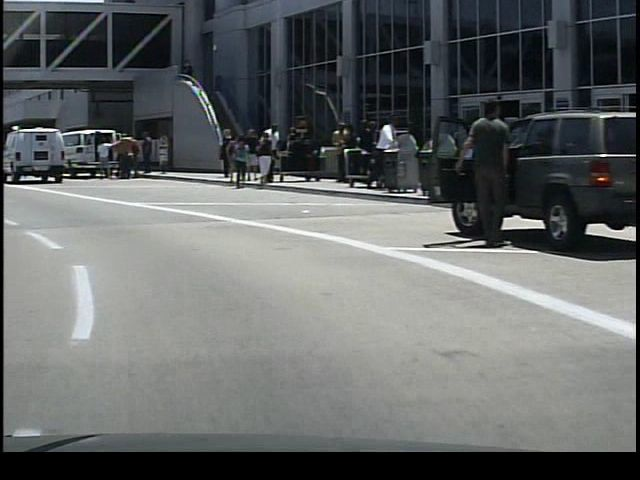person: (444, 79, 517, 253), (361, 111, 394, 173), (255, 122, 280, 184), (250, 132, 273, 184), (112, 131, 133, 183), (136, 130, 158, 177), (93, 138, 112, 185), (225, 126, 229, 180)
